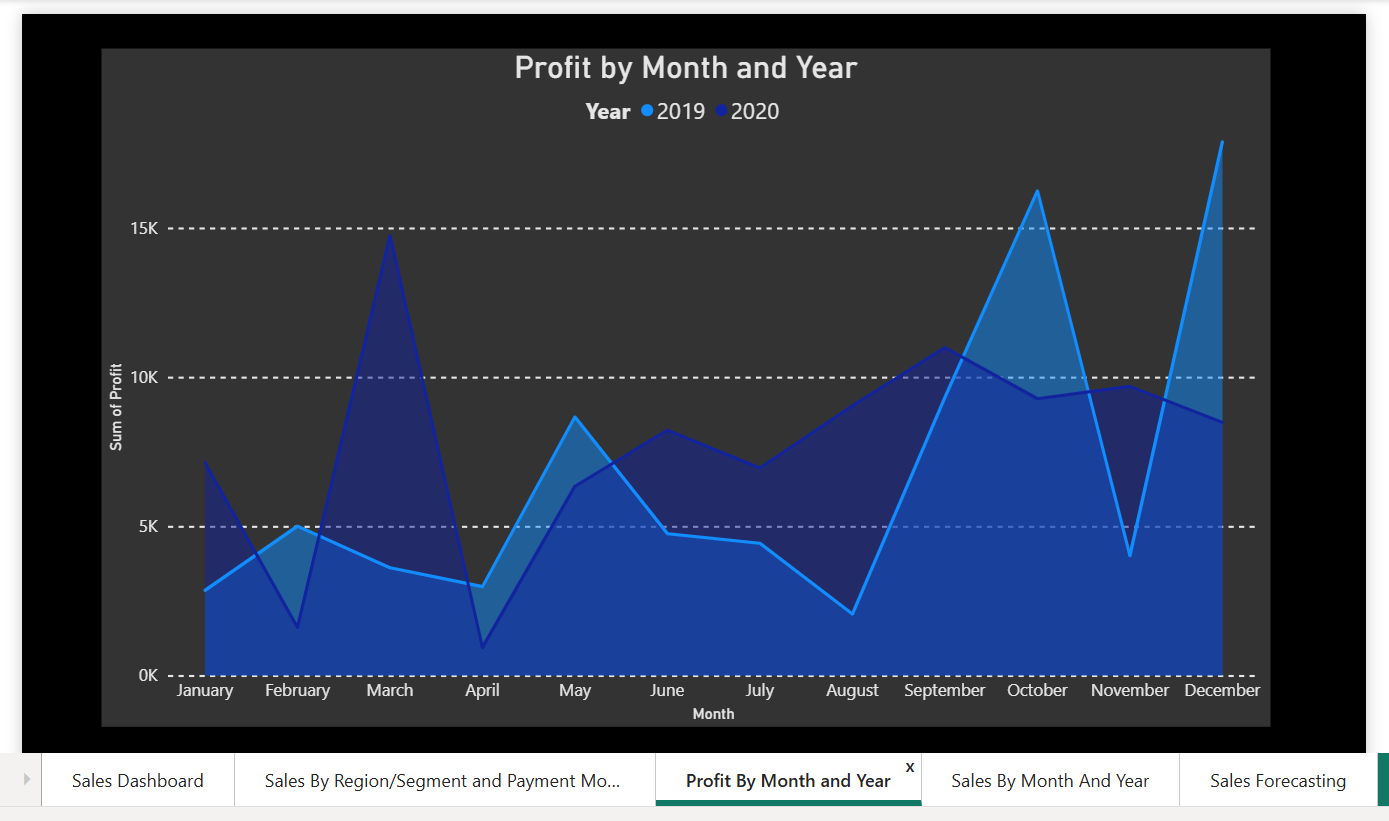

The dashboard page shown, as its layout file describes it:
{"tool":"powerbi","page":{"name":"Profit By Month and Year","canvas":[1280,720],"ordinal":2},"visuals":[{"type":"areaChart","title":"Profit by Month and Year","fields":{"Category":["SuperStore_Sales_Dataset.Order Date.Variation.Date Hierarchy.Month"],"Series":["SuperStore_Sales_Dataset.Order Date.Variation.Date Hierarchy.Year"],"Y":["Sum(SuperStore_Sales_Dataset.Profit)"]},"box":[76.3,33.4,1113.4,645.8],"z":0}]}

Visuals, with their boxes on the page's 1280x720 design canvas (x1, y1, x2, y2). These are canvas units, not pixel positions in the 1389x821 screenshot, which may show the page scaled, cropped or inside an application window:
"Profit by Month and Year" areaChart: [left=76, top=33, right=1190, bottom=679]
